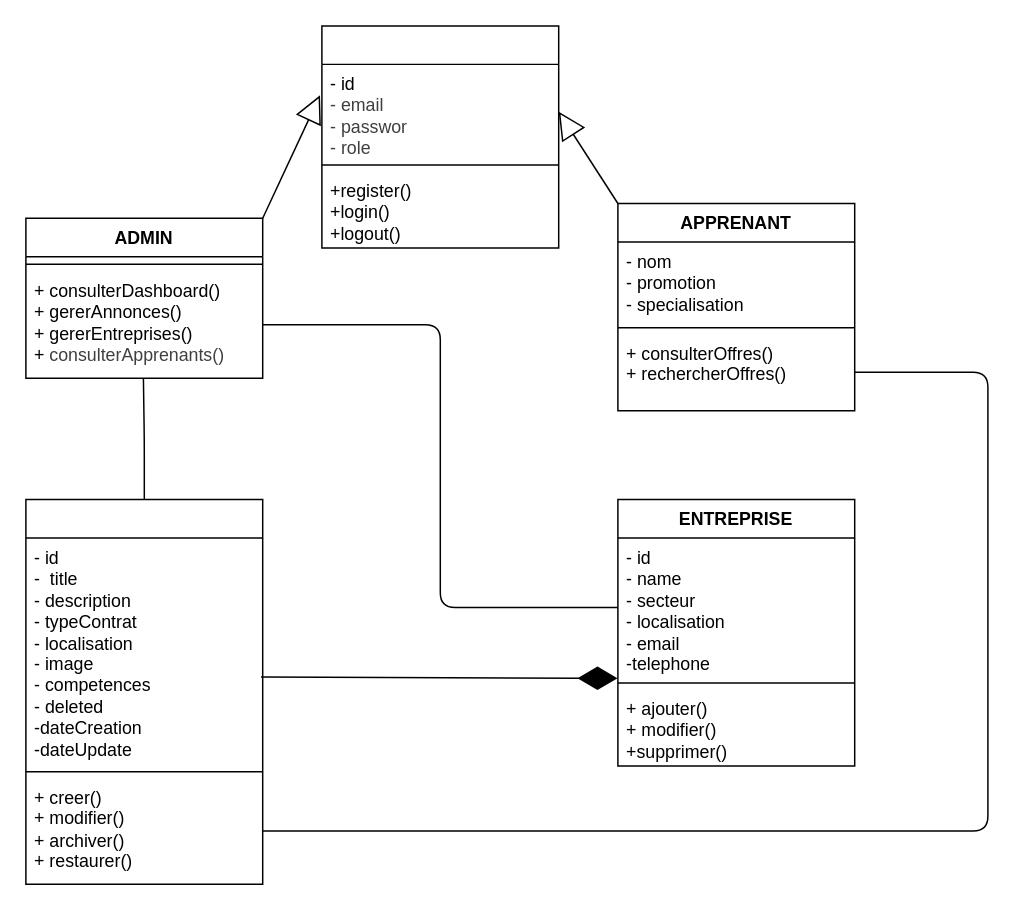
Some shapes in this 1015 by 915 pixel diagram are drawn without their labels. Here are the shapes that lost their labels. From the top down, the box of each, then its label:
(320, 24, 559, 248): USER
(24, 498, 263, 884): ANNONCE
